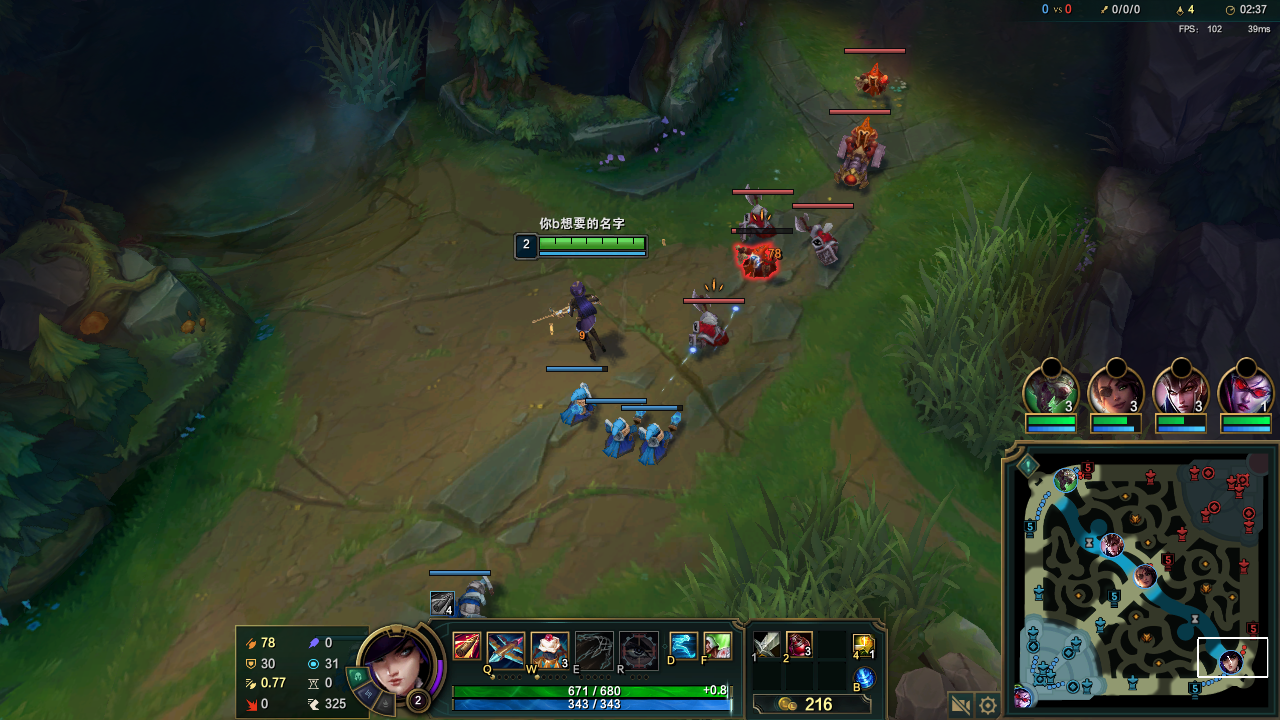DFXB: (831, 116, 891, 188), (795, 213, 841, 265), (690, 303, 735, 354), (849, 59, 896, 100), (733, 195, 777, 237), (736, 245, 778, 280)
WFXB: (640, 412, 683, 465), (600, 410, 640, 459), (560, 382, 597, 424), (458, 575, 496, 615)
Yita: (1188, 679, 1202, 698)
